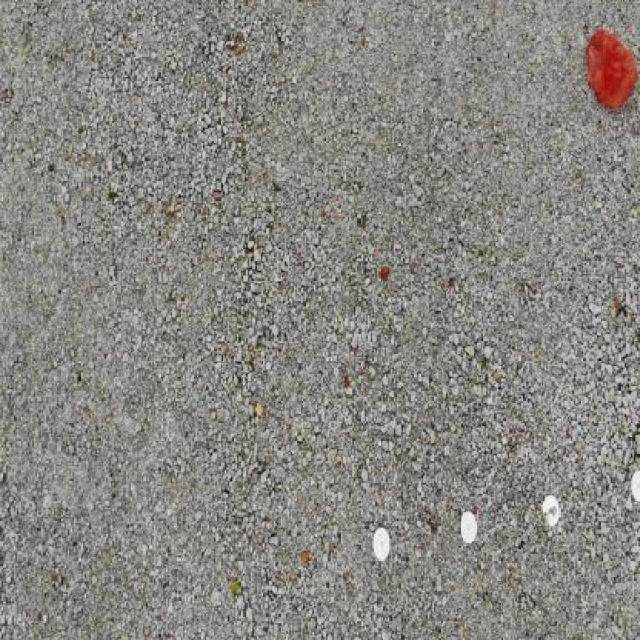Garbage: (585, 29, 636, 108)
